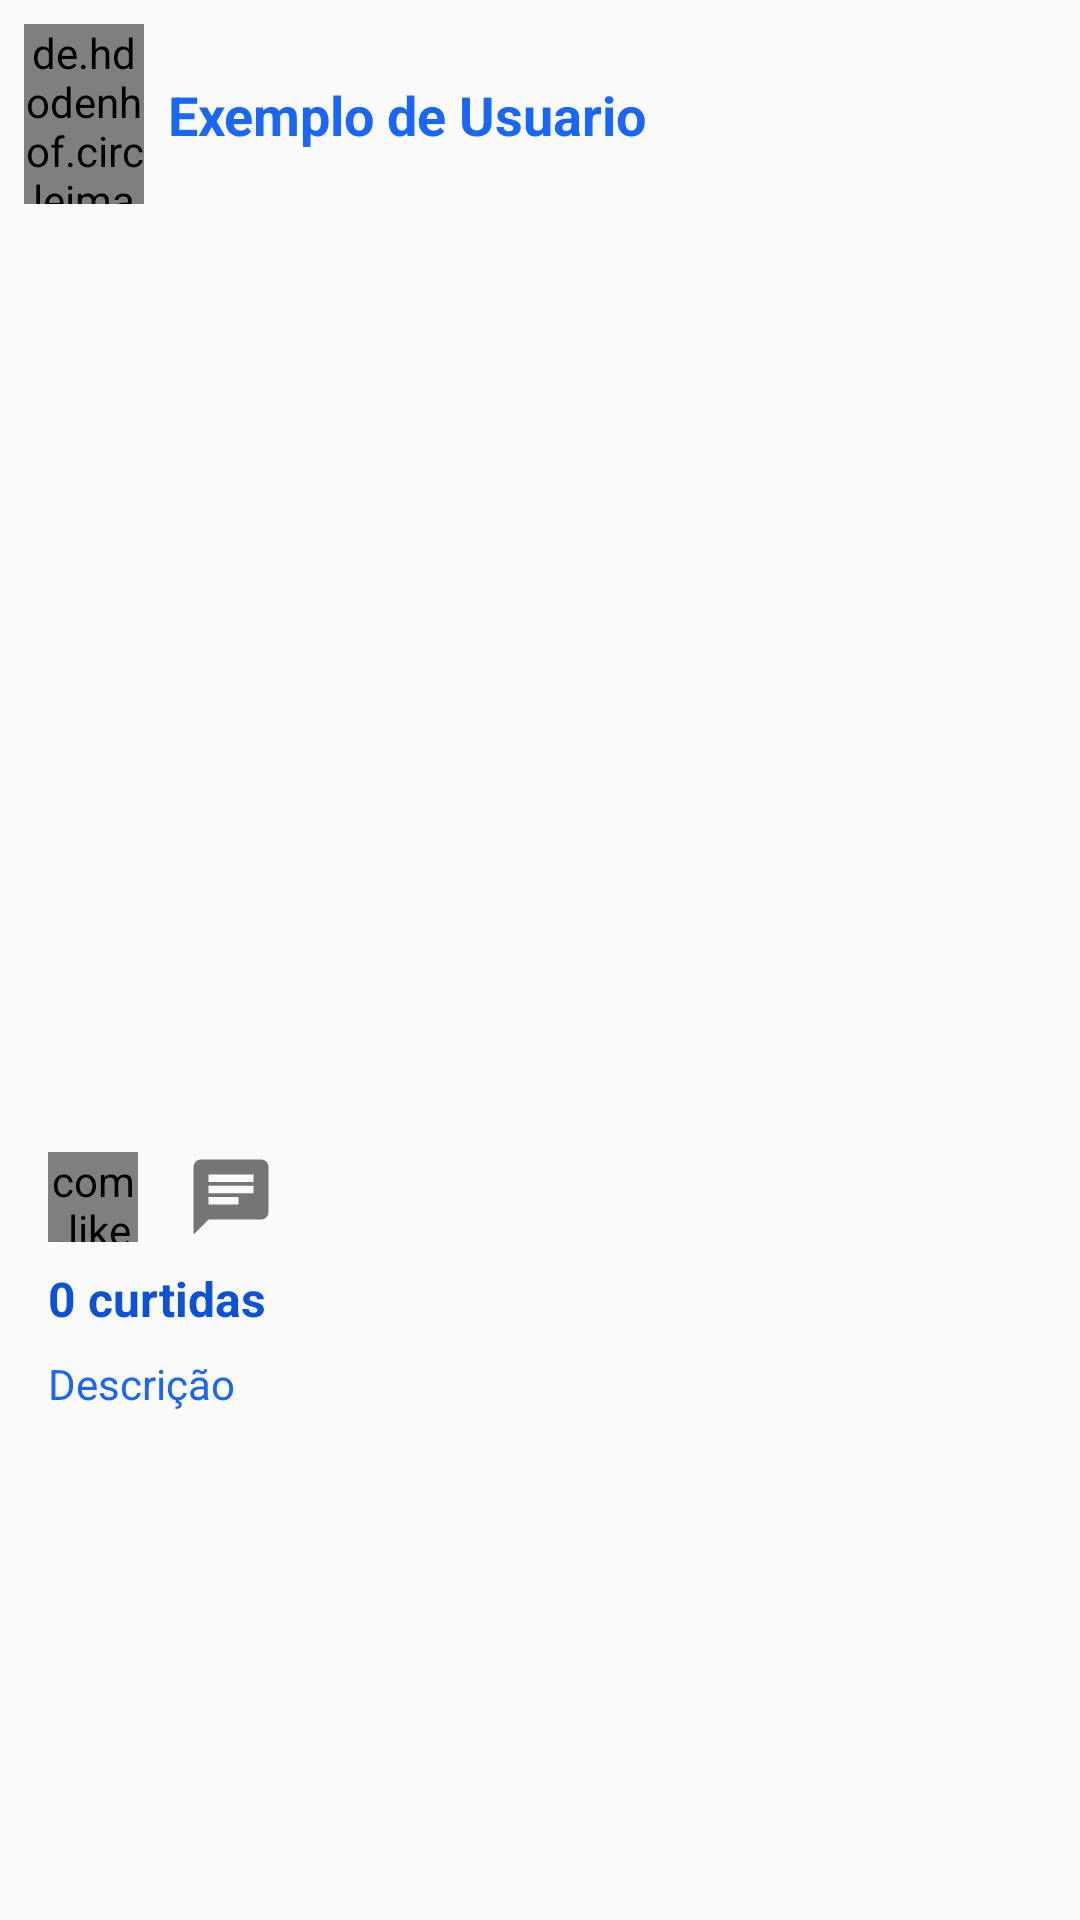

Locate icon controls on the screen. Image size 1080*1920, boxes as (x1,y1,x2,y2).
chat: (193,1159,269,1235)
